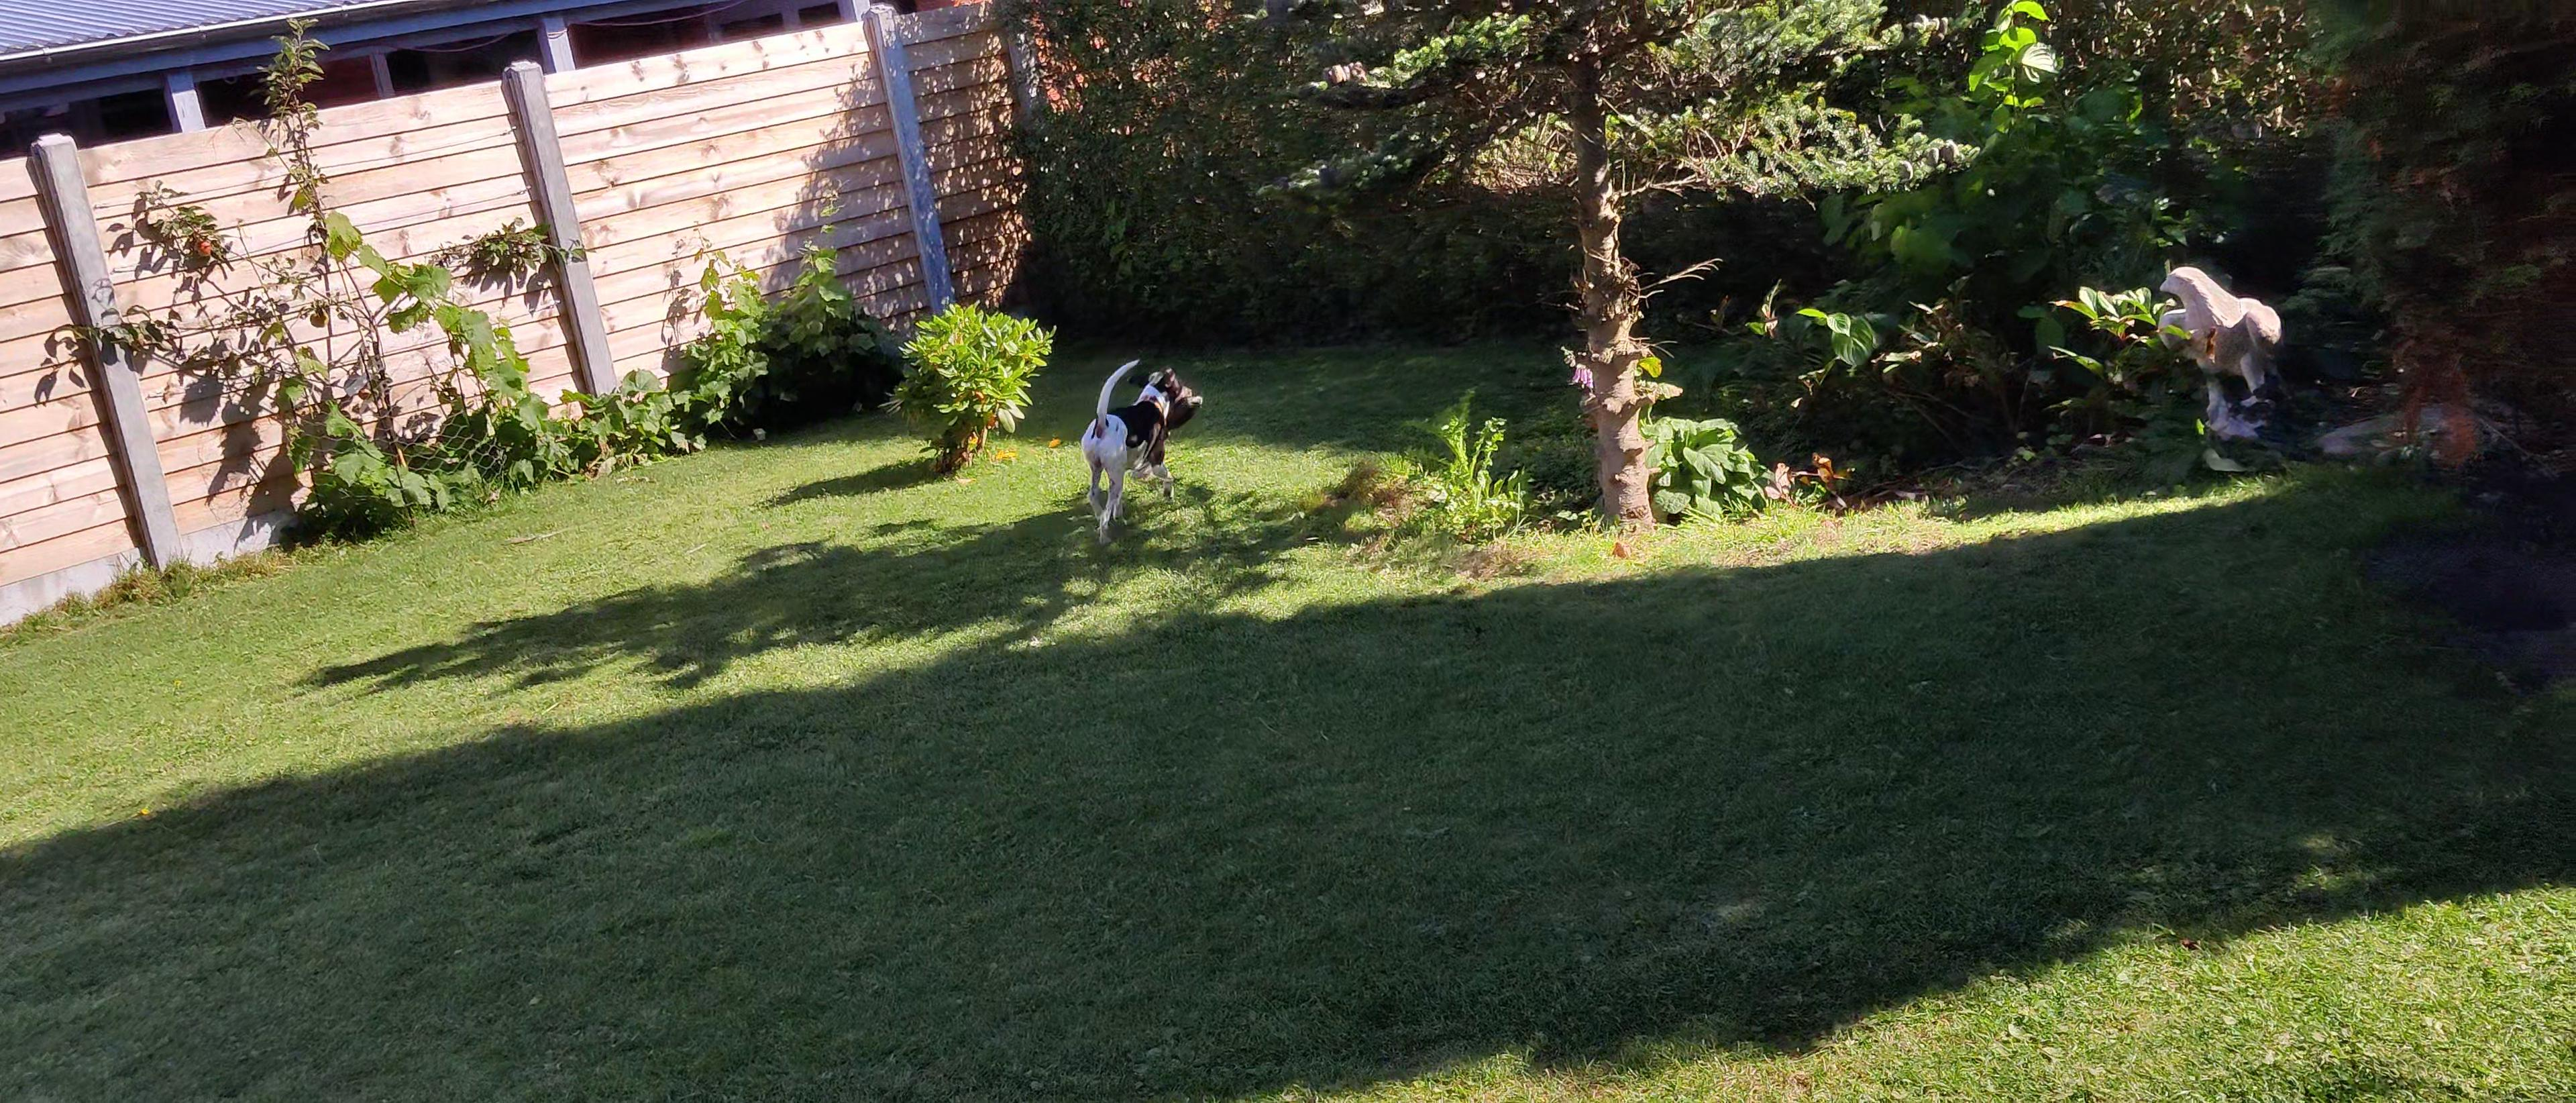Dog: (1076, 357, 1196, 541)
